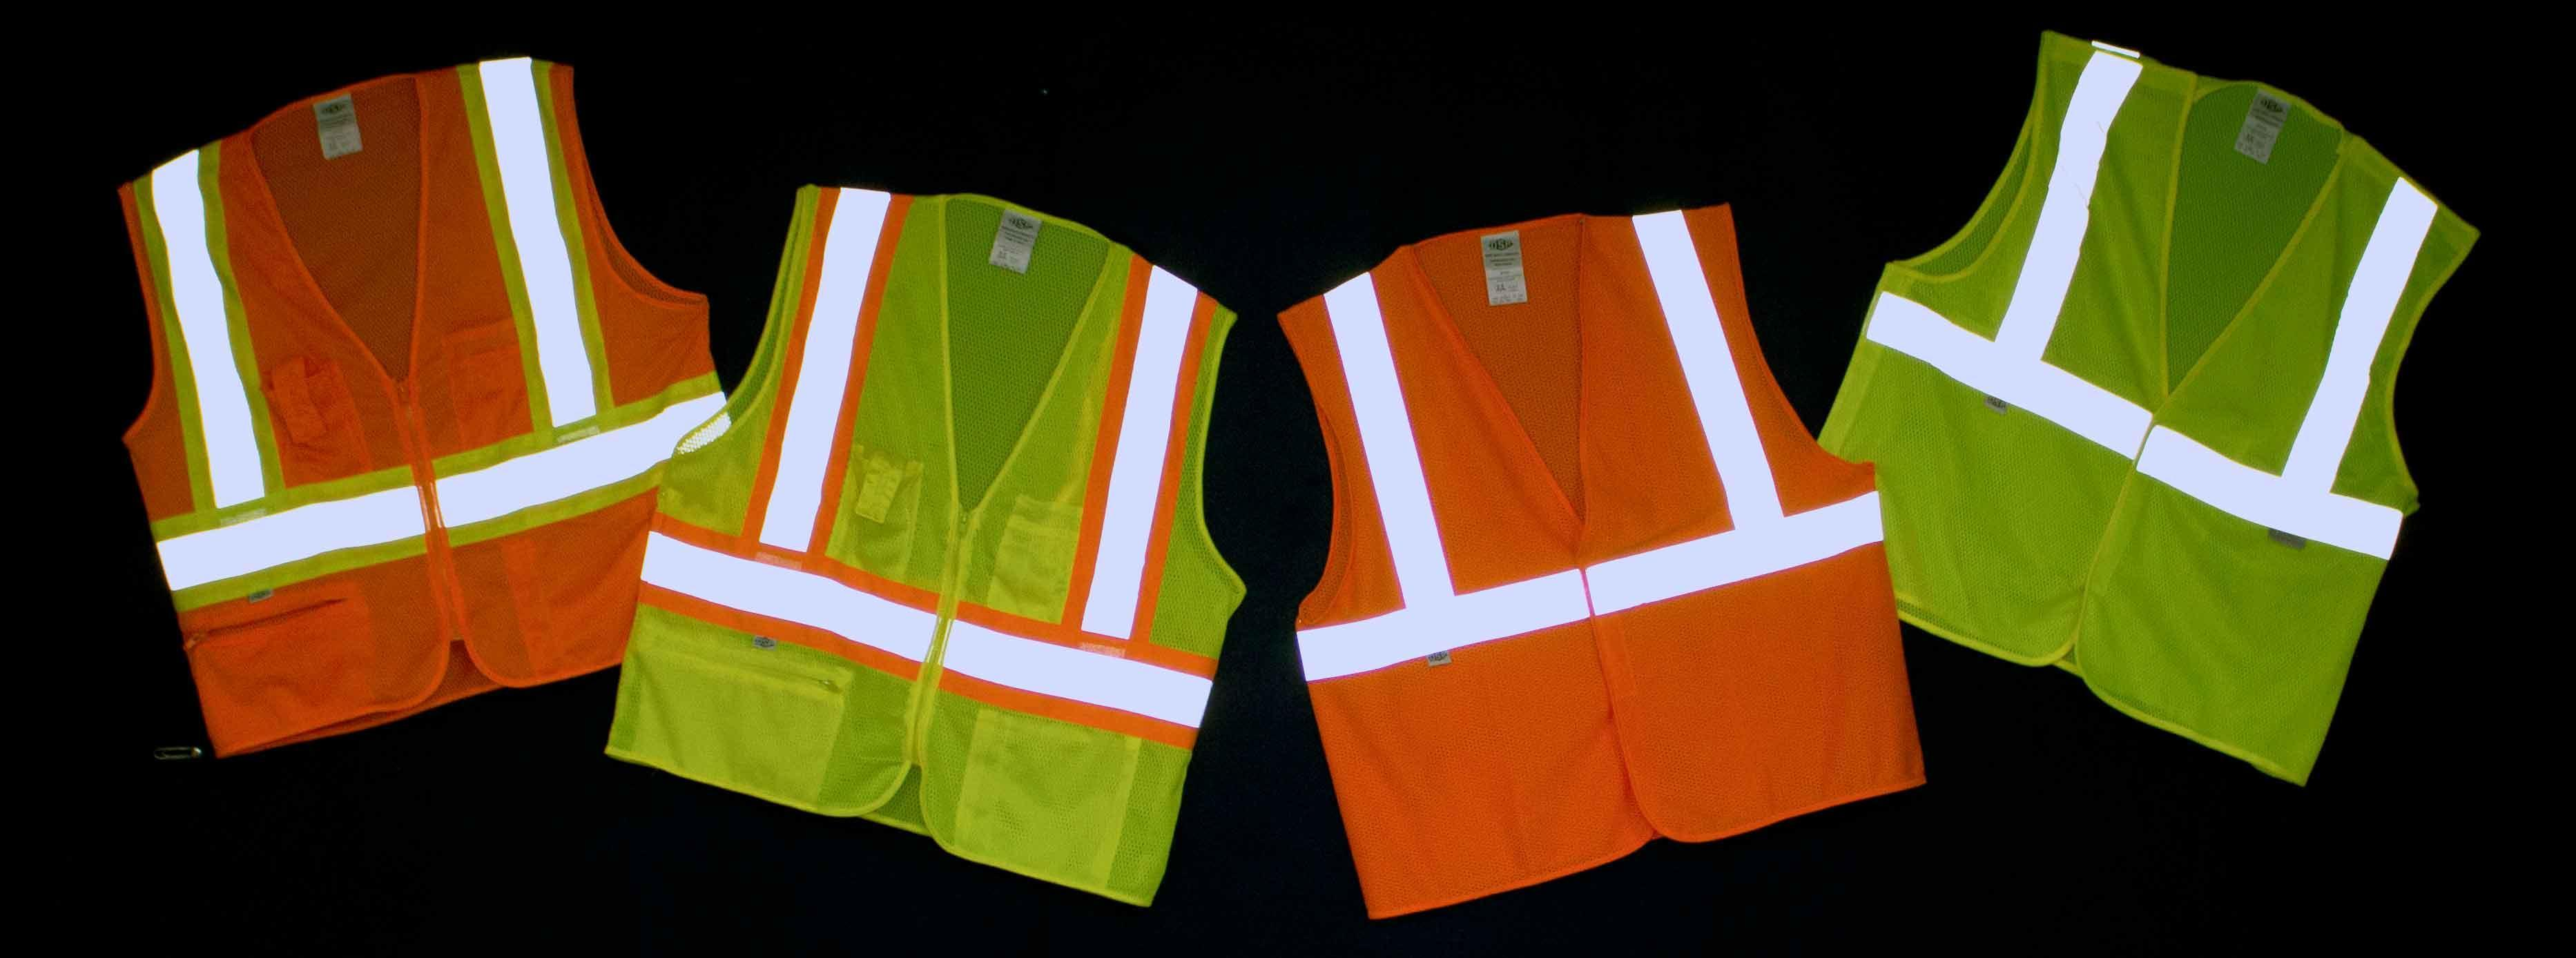vest: (1812, 26, 2484, 789), (601, 177, 1250, 910), (1276, 202, 1930, 920), (102, 58, 733, 759)
